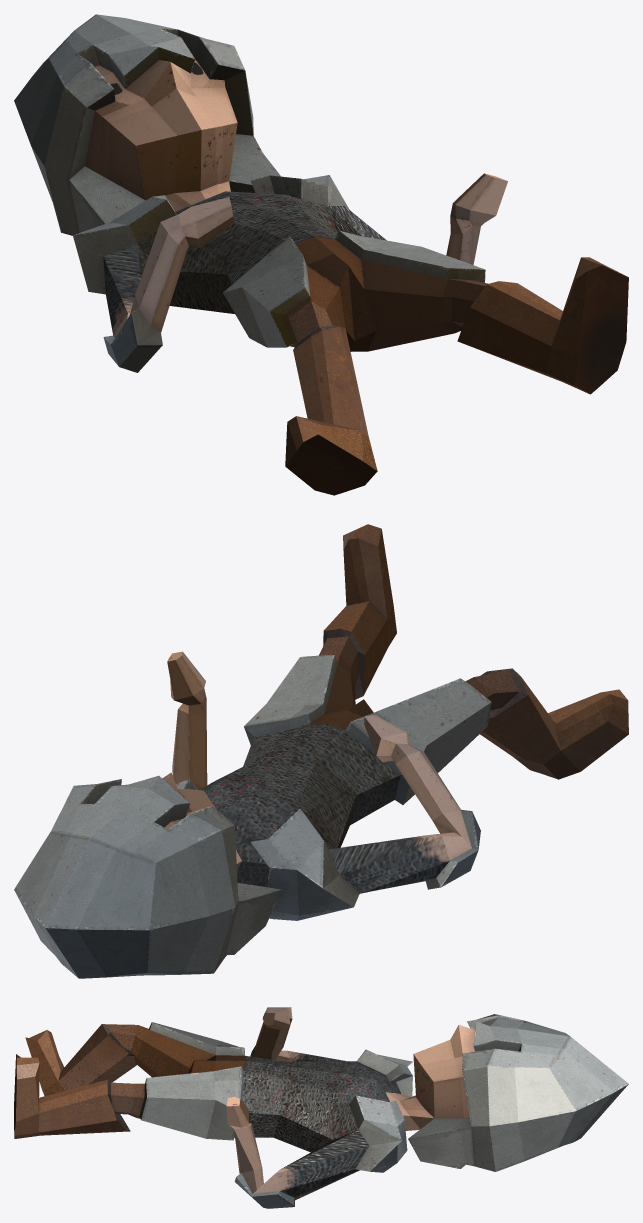
The model's file is Walk_Soldier_22.obj.
3 renders of one model, top to bottom at view 1: azimuth 30°, elevation 25°; view 2: azimuth 150°, elevation 25°; view 3: azimuth 270°, elevation 25°, orthographic. The views are drawn at different scales.
Parts seen in each view (by area): view 1: Soldado_LowPolySTD; view 2: Soldado_LowPolySTD; view 3: Soldado_LowPolySTD.
Boxes of the visible parts, box(x1,y1,x2,y2) form: Soldado_LowPolySTD: box(14, 14, 628, 495); Soldado_LowPolySTD: box(14, 524, 628, 978); Soldado_LowPolySTD: box(14, 1007, 628, 1208).
Size of the model in its own units: 0.751 by 0.4129 by 1.6.
